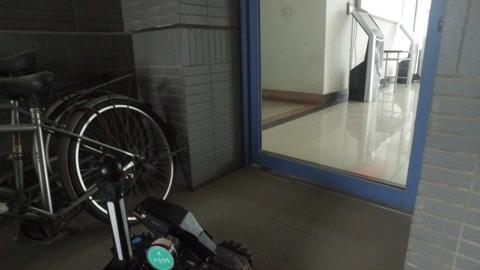bike: (1, 71, 170, 222)
chariot: (95, 162, 256, 268)
